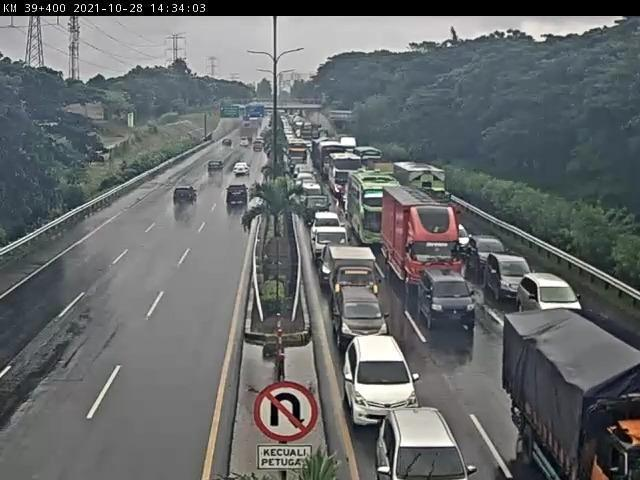Bus: (348, 171, 401, 247), (322, 151, 362, 193), (286, 139, 308, 169)
